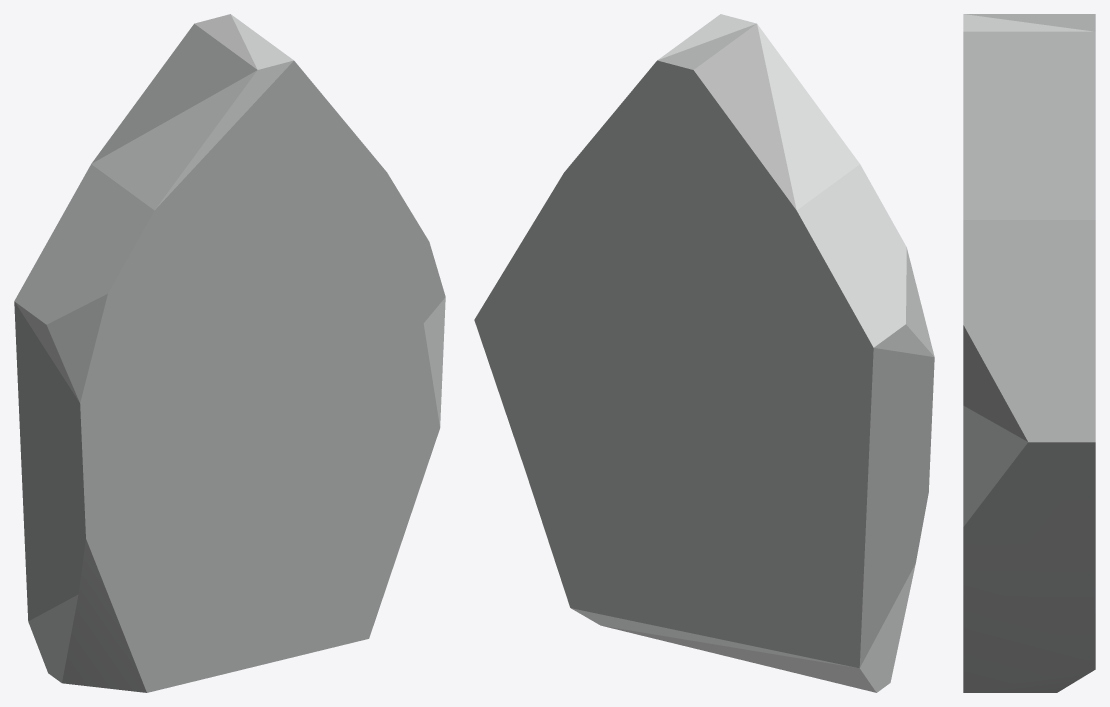
File: stone_9.fbx
The picture shows the model from 3 angles, left to right: view 1: azimuth 30°, elevation 25°; view 2: azimuth 150°, elevation 25°; view 3: azimuth 270°, elevation 25°; orthographic projection. The views are drawn at different scales.
Visible parts, largest first — view 1: stone_9; view 2: stone_9; view 3: stone_9.
Boxes of the visible parts, x1,y1,x2,y2 form: stone_9: [14, 14, 445, 692]; stone_9: [474, 14, 934, 692]; stone_9: [963, 14, 1095, 692].
Size of the model in its own units: 152 by 218 by 41.99.
